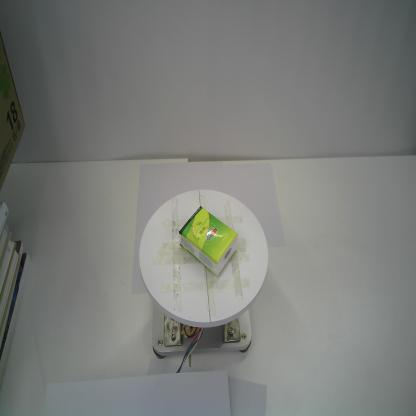Tissue: (178, 204, 239, 278)
